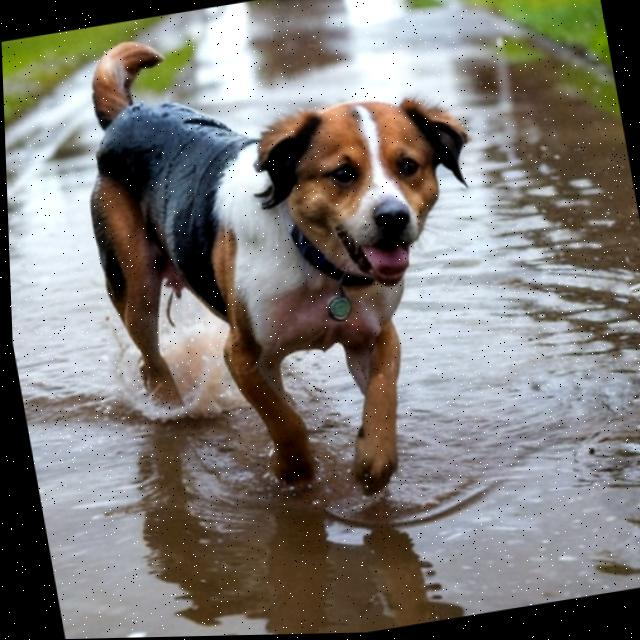dog: (56, 0, 541, 567)
